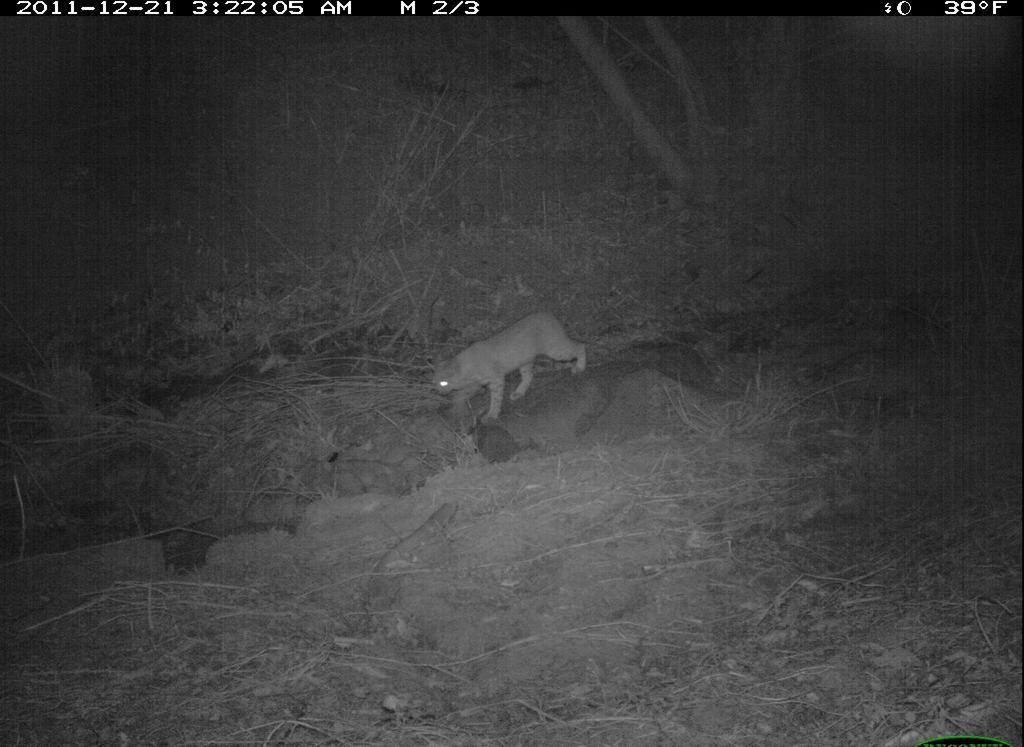bobcat: (425, 310, 593, 429)
